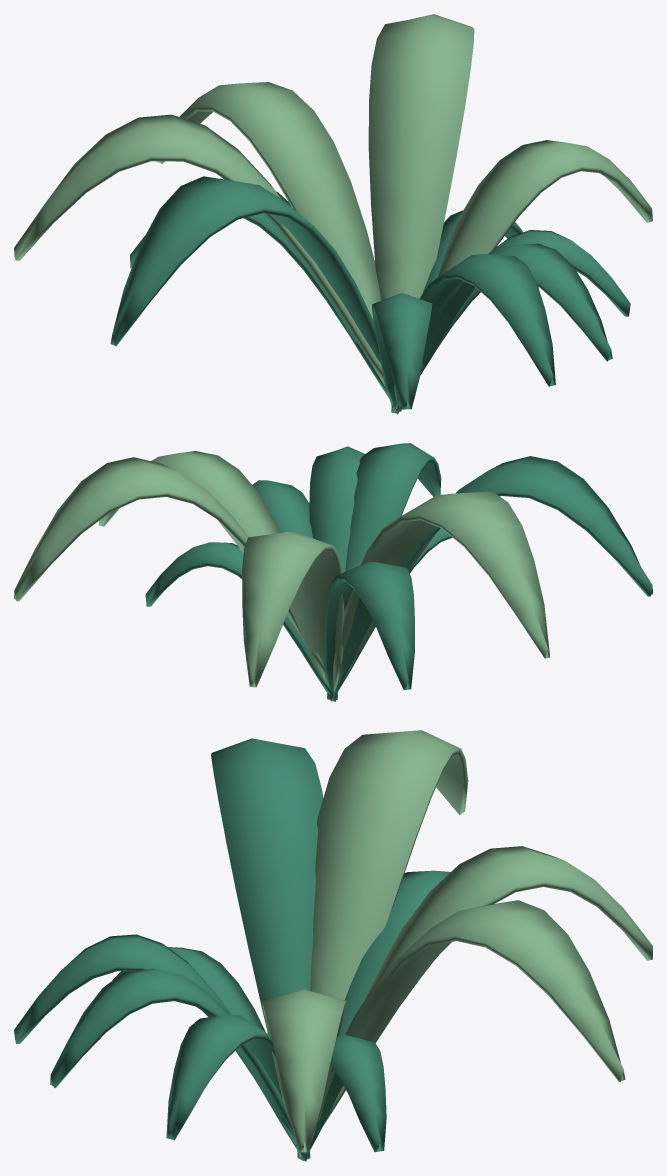
File: jade_rosette.glb
The picture shows the model from 3 angles, top to bottom: view 1: azimuth 30°, elevation 25°; view 2: azimuth 150°, elevation 25°; view 3: azimuth 270°, elevation 25°; orthographic projection. The views are drawn at different scales.
Visible parts, largest first — view 1: Sculpted succulent leaf, Sculpted succulent leaf.001; view 2: Sculpted succulent leaf, Sculpted succulent leaf.001; view 3: Sculpted succulent leaf, Sculpted succulent leaf.001.
Boxes of the visible parts, box(x1,y1,x2,y2) form: Sculpted succulent leaf: box(14, 14, 652, 411); Sculpted succulent leaf.001: box(110, 176, 630, 414); Sculpted succulent leaf: box(14, 451, 549, 698); Sculpted succulent leaf.001: box(145, 443, 652, 701); Sculpted succulent leaf: box(261, 730, 652, 1156); Sculpted succulent leaf.001: box(14, 738, 450, 1161).
Size of the model in its own units: 1.42 by 0.7154 by 1.28.
